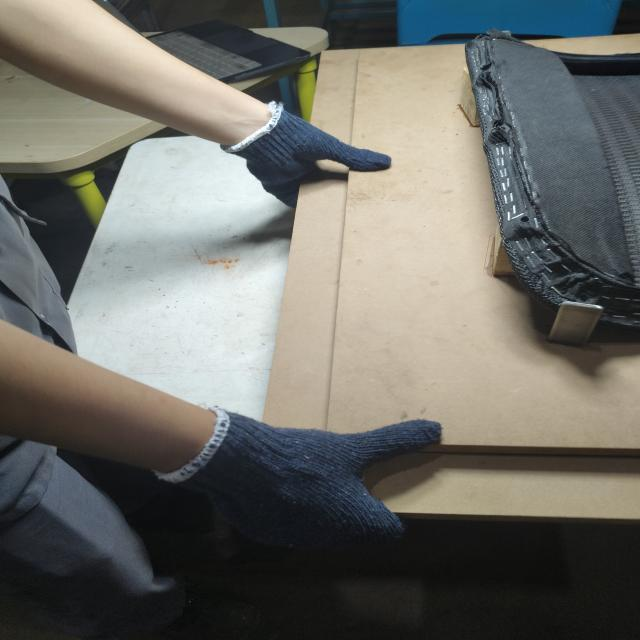Gloves-Detection: (206, 382, 428, 544), (256, 104, 395, 200)
